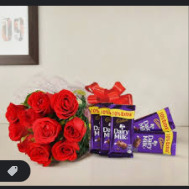RedRose: (51, 139, 82, 165), (31, 116, 58, 143), (53, 89, 77, 117), (64, 116, 84, 143), (29, 145, 52, 167), (6, 118, 26, 142), (31, 90, 49, 115), (5, 100, 23, 121), (19, 107, 34, 127), (17, 136, 31, 154)
